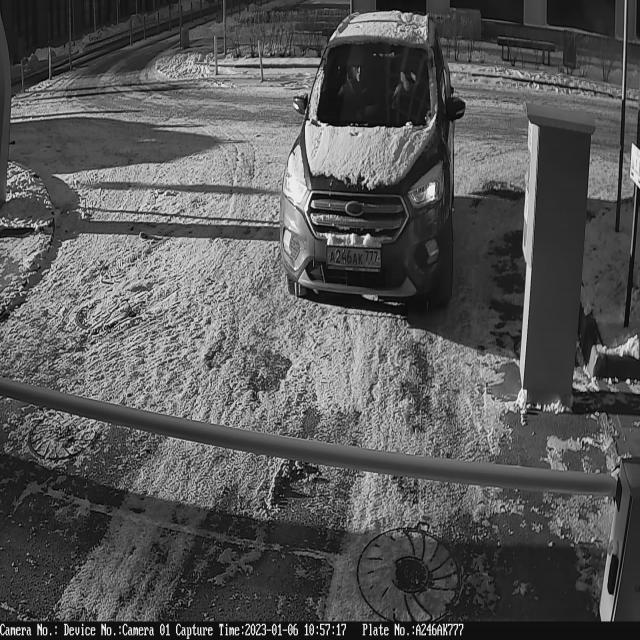car-plate-numbers: (324, 241, 385, 279)
